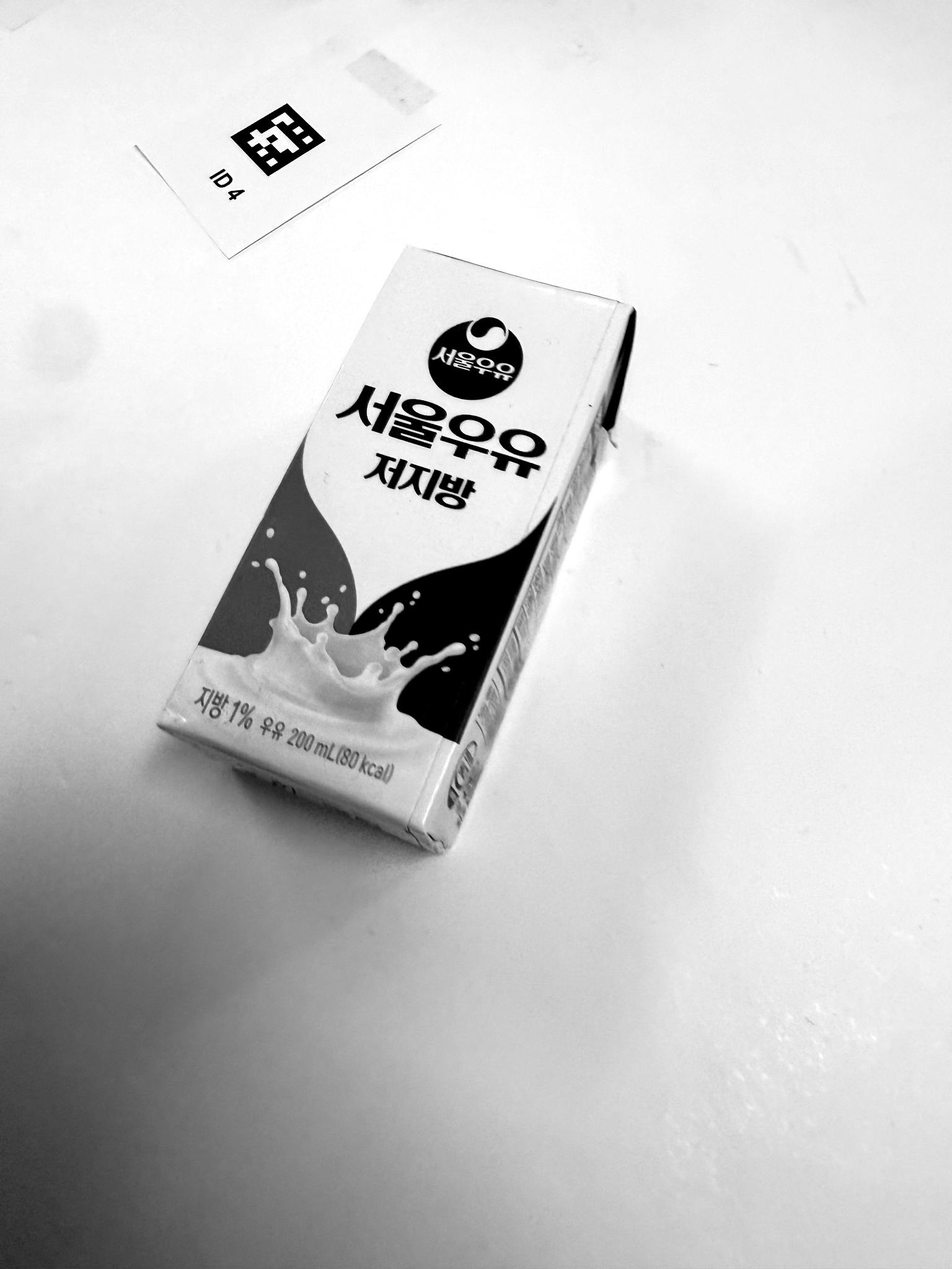milk_blue: (159, 247, 634, 851)
